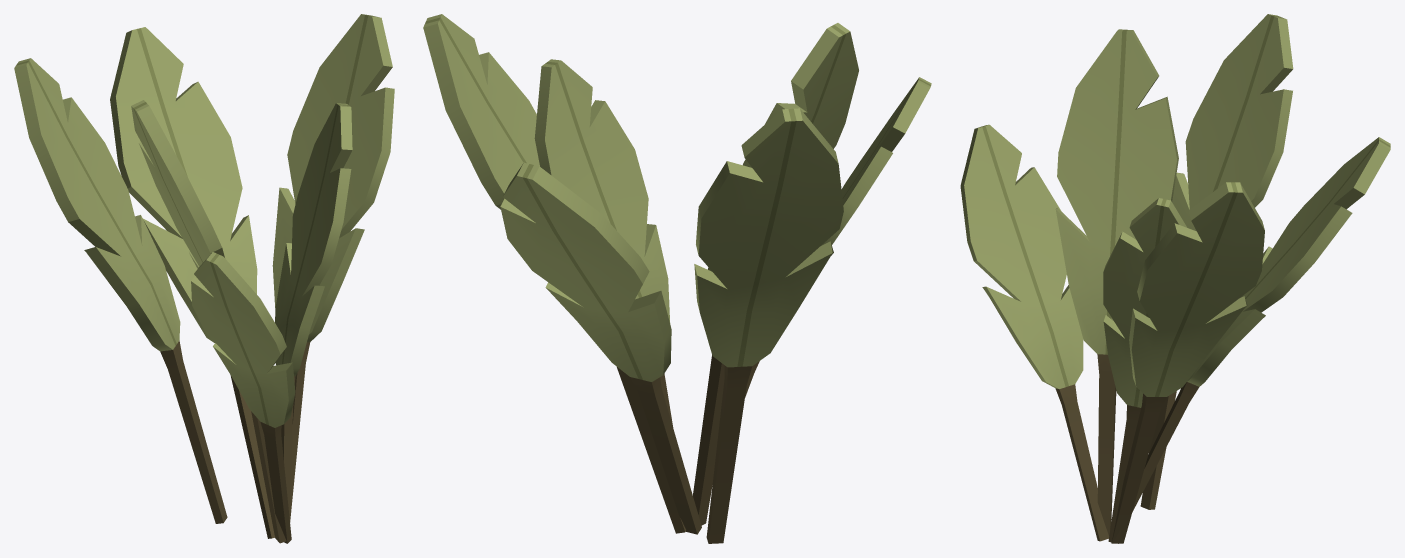
Rendered from plant_A.fbx.
The picture shows the model from 3 angles, left to right: view 1: azimuth 30°, elevation 25°; view 2: azimuth 150°, elevation 25°; view 3: azimuth 270°, elevation 25°; orthographic projection. The views are drawn at different scales.
Parts seen in each view (by area): view 1: plant_A; view 2: plant_A; view 3: plant_A.
Boxes of the visible parts, bbox=[...] form: plant_A: bbox=[14, 14, 394, 543]; plant_A: bbox=[423, 14, 931, 543]; plant_A: bbox=[960, 14, 1390, 543].
Bounding box in the file's own units: 95.97 × 121 × 105.
